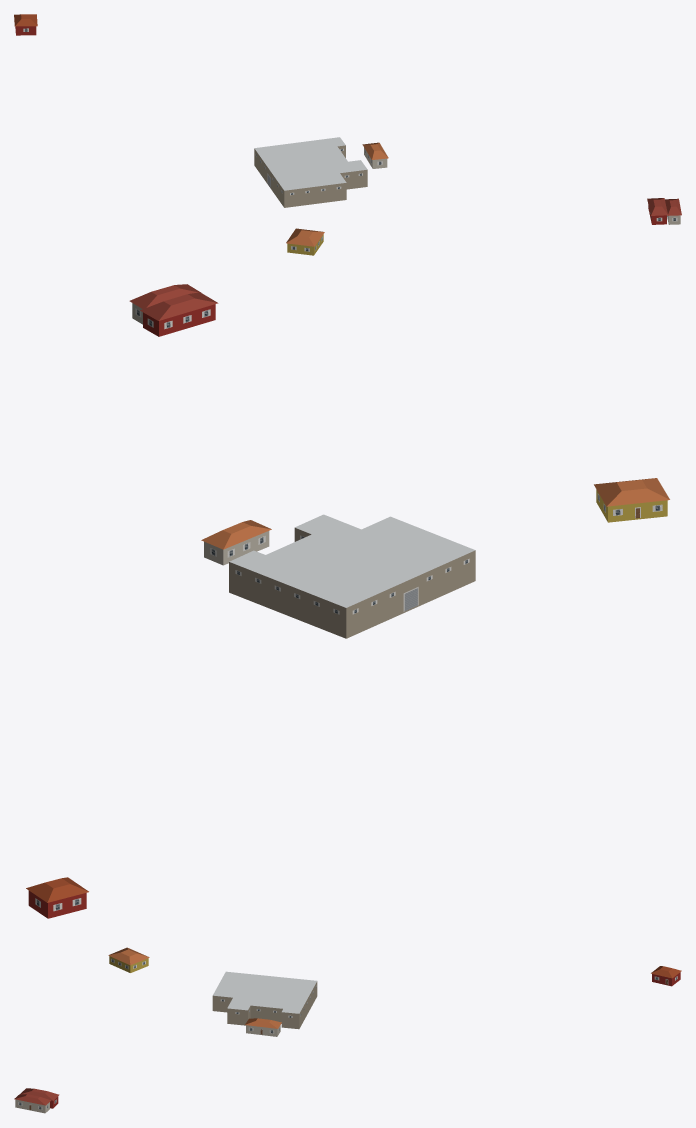
The model's file is msb_palmbeach_m21_m13.glb.
3 renders of one model, top to bottom at view 1: azimuth 30°, elevation 25°; view 2: azimuth 150°, elevation 25°; view 3: azimuth 270°, elevation 25°, orthographic. The views are drawn at different scales.
Parts seen in each view (by area): view 1: msb_palmbeach_m21_m13_lod0; view 2: msb_palmbeach_m21_m13_lod0; view 3: msb_palmbeach_m21_m13_lod0.
Part boxes in pixels (bbox=[...]): msb_palmbeach_m21_m13_lod0: bbox=[14, 14, 681, 255]; msb_palmbeach_m21_m13_lod0: bbox=[26, 284, 669, 918]; msb_palmbeach_m21_m13_lod0: bbox=[14, 947, 681, 1113].
Size of what is drawn, in the model's own units: 133 by 8.02 by 248.
Materials: 3 (1 with a texture image).
